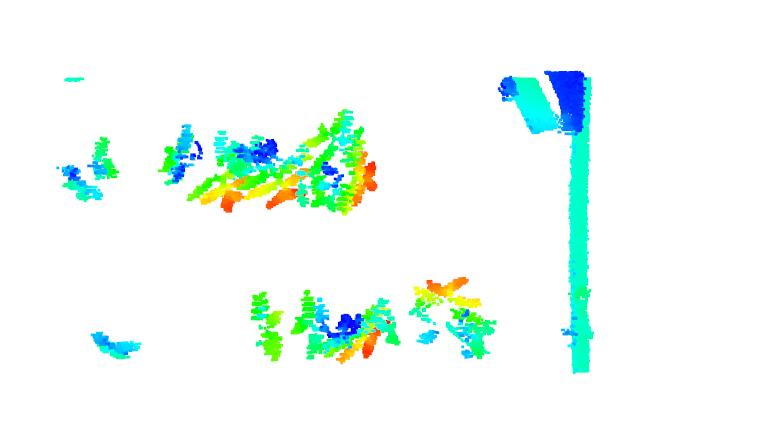chickpea: (280, 288, 401, 366), (156, 123, 258, 215), (409, 276, 494, 363), (313, 120, 383, 216), (248, 135, 328, 216), (56, 137, 127, 201), (236, 297, 290, 370)
